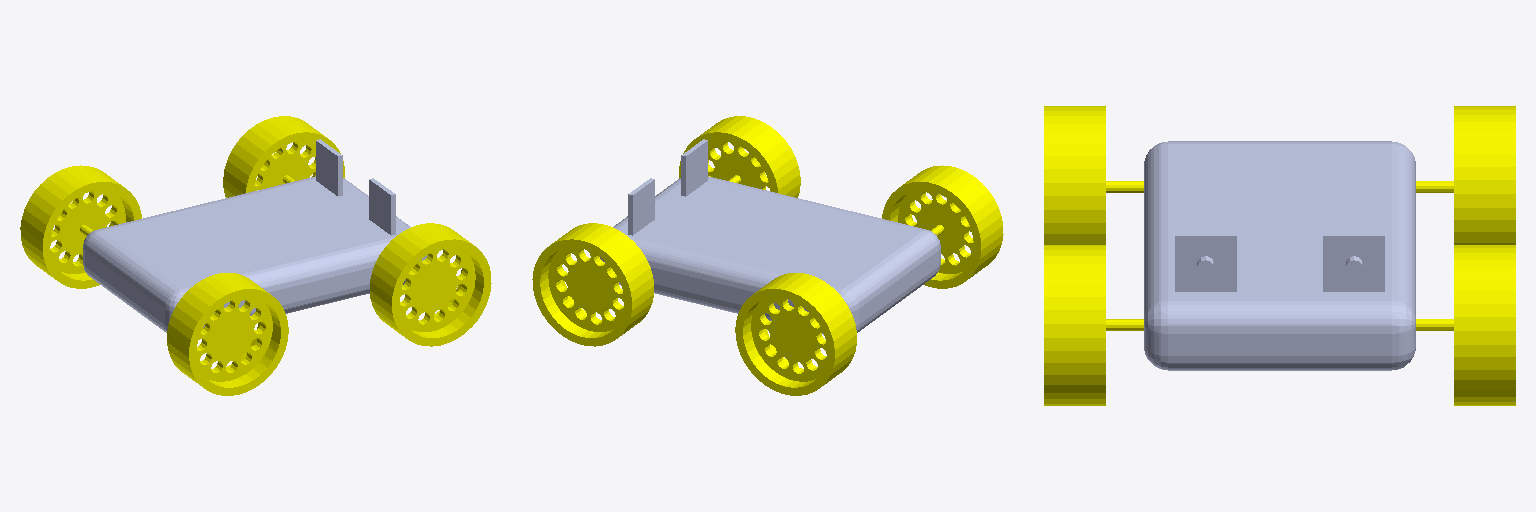
robot.urdf — ENPM673_proj5:
<?xml version="1.0" encoding="utf-8"?>
<!-- This URDF was automatically created by SolidWorks to URDF Exporter! Originally created by [author] ([email redacted]) 
     Commit Version: 1.6.0-4-g7f85cfe  Build Version: 1.6.7995.38578
     For more information, please see http://wiki.ros.org/sw_urdf_exporter -->
<robot
  name="ENPM673_proj5">
  <link
    name="base_link">
    <inertial>
      <origin
        xyz="-0.00109918012943134 0.00583609620014158 0.0100322510500422"
        rpy="0 0 0" />
      <mass
        value="0.539393783542884" />
      <inertia
        ixx="0.000556207346383151"
        ixy="-5.19603785227339E-20"
        ixz="-7.22829568079667E-06"
        iyy="0.00129964254288098"
        iyz="1.80859623888089E-20"
        izz="0.00177313390839128" />
    </inertial>
    <visual>
      <origin
        xyz="0 0 0"
        rpy="0 0 0" />
      <geometry>
        <mesh
          filename="package://ENPM673_proj5/meshes/base_link.STL" />
      </geometry>
      <material
        name="">
        <color
          rgba="0.792156862745098 0.819607843137255 0.933333333333333 1" />
      </material>
    </visual>
    <collision>
      <origin
        xyz="0 0 0"
        rpy="0 0 0" />
      <geometry>
        <mesh
          filename="package://ENPM673_proj5/meshes/base_link.STL" />
      </geometry>
    </collision>
  </link>
  <link
    name="FL_wheel">
    <inertial>
      <origin
        xyz="-1.73472347597681E-18 1.38777878078145E-17 0.0323201178441002"
        rpy="0 0 0" />
      <mass
        value="0.0346791977367494" />
      <inertia
        ixx="1.41585015301741E-05"
        ixy="2.01170324972896E-21"
        ixz="2.40733176758587E-22"
        iyy="1.41585015301741E-05"
        iyz="7.17000380658435E-22"
        izz="2.53540976405827E-05" />
    </inertial>
    <visual>
      <origin
        xyz="0 0 0"
        rpy="0 0 0" />
      <geometry>
        <mesh
          filename="package://ENPM673_proj5/meshes/FL_wheel.STL" />
      </geometry>
      <material
        name="">
        <color
          rgba="1 1 0 1" />
      </material>
    </visual>
    <collision>
      <origin
        xyz="0 0 0"
        rpy="0 0 0" />
      <geometry>
        <mesh
          filename="package://ENPM673_proj5/meshes/FL_wheel.STL" />
      </geometry>
    </collision>
  </link>
  <joint
    name="FL_joint"
    type="continuous">
    <origin
      xyz="0.06441 0.055836 0.0098254"
      rpy="-1.5708 1.5049 0" />
    <parent
      link="base_link" />
    <child
      link="FL_wheel" />
    <axis
      xyz="0 0 1" />
  </joint>
  <link
    name="FR_wheel">
    <inertial>
      <origin
        xyz="9.71445146547012E-17 1.59594559789866E-16 0.0323201178441002"
        rpy="0 0 0" />
      <mass
        value="0.0346791977367494" />
      <inertia
        ixx="1.41585015301741E-05"
        ixy="-1.74700545371199E-21"
        ixz="-2.22040101327799E-21"
        iyy="1.41585015301741E-05"
        iyz="1.14510867773856E-21"
        izz="2.53540976405827E-05" />
    </inertial>
    <visual>
      <origin
        xyz="0 0 0"
        rpy="0 0 0" />
      <geometry>
        <mesh
          filename="package://ENPM673_proj5/meshes/FR_wheel.STL" />
      </geometry>
      <material
        name="">
        <color
          rgba="1 1 0 1" />
      </material>
    </visual>
    <collision>
      <origin
        xyz="0 0 0"
        rpy="0 0 0" />
      <geometry>
        <mesh
          filename="package://ENPM673_proj5/meshes/FR_wheel.STL" />
      </geometry>
    </collision>
  </link>
  <joint
    name="FR_joint"
    type="continuous">
    <origin
      xyz="0.06441 -0.044164 0.0098254"
      rpy="1.5708 0.058924 0" />
    <parent
      link="base_link" />
    <child
      link="FR_wheel" />
    <axis
      xyz="0 0 1" />
  </joint>
  <link
    name="BR_wheel">
    <inertial>
      <origin
        xyz="6.93889390390723E-18 6.93889390390723E-18 0.0323201178441002"
        rpy="0 0 0" />
      <mass
        value="0.0346791977367494" />
      <inertia
        ixx="1.41585015301741E-05"
        ixy="0"
        ixz="3.08289849085421E-22"
        iyy="1.41585015301741E-05"
        iyz="6.43955883419343E-21"
        izz="2.53540976405827E-05" />
    </inertial>
    <visual>
      <origin
        xyz="0 0 0"
        rpy="0 0 0" />
      <geometry>
        <mesh
          filename="package://ENPM673_proj5/meshes/BR_wheel.STL" />
      </geometry>
      <material
        name="">
        <color
          rgba="1 1 0 1" />
      </material>
    </visual>
    <collision>
      <origin
        xyz="0 0 0"
        rpy="0 0 0" />
      <geometry>
        <mesh
          filename="package://ENPM673_proj5/meshes/BR_wheel.STL" />
      </geometry>
    </collision>
  </link>
  <joint
    name="BR_joint"
    type="continuous">
    <origin
      xyz="-0.06759 -0.044164 0.0098254"
      rpy="1.5708 -0.827 0" />
    <parent
      link="base_link" />
    <child
      link="BR_wheel" />
    <axis
      xyz="0 0 1" />
  </joint>
  <link
    name="BL_wheel">
    <inertial>
      <origin
        xyz="-7.35522753814166E-16 2.98372437868011E-16 0.0323201178441002"
        rpy="0 0 0" />
      <mass
        value="0.0346791977367494" />
      <inertia
        ixx="1.41585015301741E-05"
        ixy="3.70576914423756E-21"
        ixz="2.63020652373899E-21"
        iyy="1.41585015301741E-05"
        iyz="3.6202632958349E-24"
        izz="2.53540976405827E-05" />
    </inertial>
    <visual>
      <origin
        xyz="0 0 0"
        rpy="0 0 0" />
      <geometry>
        <mesh
          filename="package://ENPM673_proj5/meshes/BL_wheel.STL" />
      </geometry>
      <material
        name="">
        <color
          rgba="1 1 0 1" />
      </material>
    </visual>
    <collision>
      <origin
        xyz="0 0 0"
        rpy="0 0 0" />
      <geometry>
        <mesh
          filename="package://ENPM673_proj5/meshes/BL_wheel.STL" />
      </geometry>
    </collision>
  </link>
  <joint
    name="BL_joint"
    type="continuous">
    <origin
      xyz="-0.06759 0.055836 0.0098254"
      rpy="1.5708 0.091324 -3.1416" />
    <parent
      link="base_link" />
    <child
      link="BL_wheel" />
    <axis
      xyz="0 0 1" />
  </joint>
</robot>

--- What the picture shows (computed from the rendered views, not written in the file) ---
The picture shows the robot from 3 angles, left to right: view 1: azimuth 30°, elevation 25°; view 2: azimuth 150°, elevation 25°; view 3: azimuth 270°, elevation 25°; orthographic projection.
Model ENPM673_proj5 with 5 links and 4 joints (4 continuous), rooted at base_link, posed every joint at zero.
Visible links, largest first — view 1: base_link, BR_wheel, FR_wheel, BL_wheel, FL_wheel; view 2: base_link, BL_wheel, FL_wheel, BR_wheel, FR_wheel; view 3: base_link, FL_wheel, FR_wheel, BR_wheel, BL_wheel.
Link boxes in pixels (<box>): base_link: <box>83,139,427,332</box>; BR_wheel: <box>167,273,288,395</box>; FR_wheel: <box>370,223,491,346</box>; BL_wheel: <box>20,165,141,288</box>; FL_wheel: <box>223,116,344,197</box>; base_link: <box>600,139,940,334</box>; BL_wheel: <box>735,273,856,395</box>; FL_wheel: <box>532,223,653,346</box>; BR_wheel: <box>882,165,1003,288</box>; FR_wheel: <box>679,116,800,197</box>; base_link: <box>1144,141,1415,370</box>; FL_wheel: <box>1416,245,1515,405</box>; FR_wheel: <box>1044,245,1143,405</box>; BR_wheel: <box>1044,106,1143,244</box>; BL_wheel: <box>1416,106,1515,244</box>.
Size in the robot's own frame: 0.1969 by 0.19 by 0.0725 metres.
5 mesh visuals loaded from 5 distinct referenced files (5 binary STL).